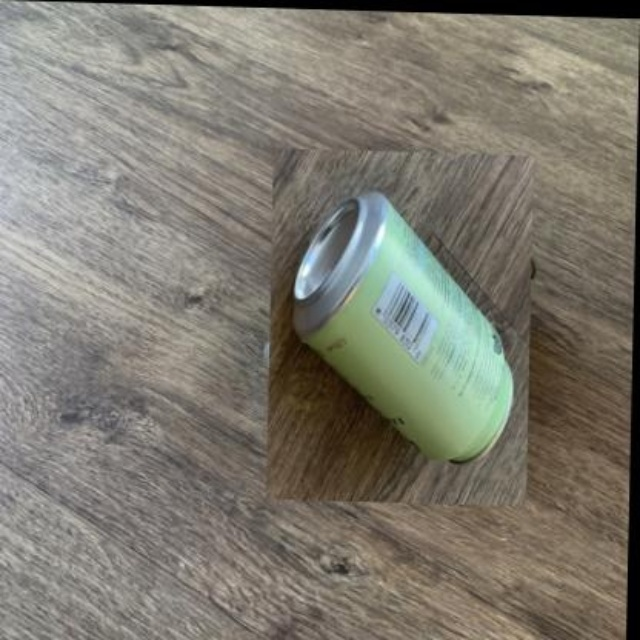trash: (294, 192, 512, 460)
